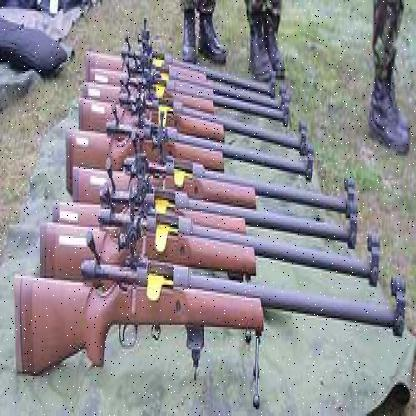rifle: (7, 247, 414, 407)
